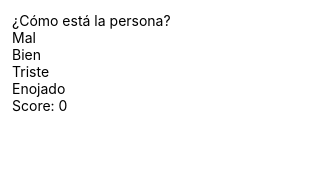
Quiz Functionality & Rendering › handles user interaction and updates score correctly
The width and height of the screenshot is (332, 172).
Click the text "Bien". click: {"x": 26, "y": 54}
box: [12,46,41,63]
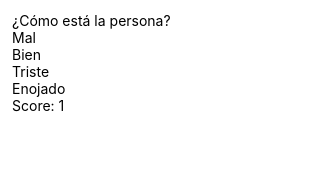
Expected: the text "Score: 1" is shown, [12,97,64,114]
